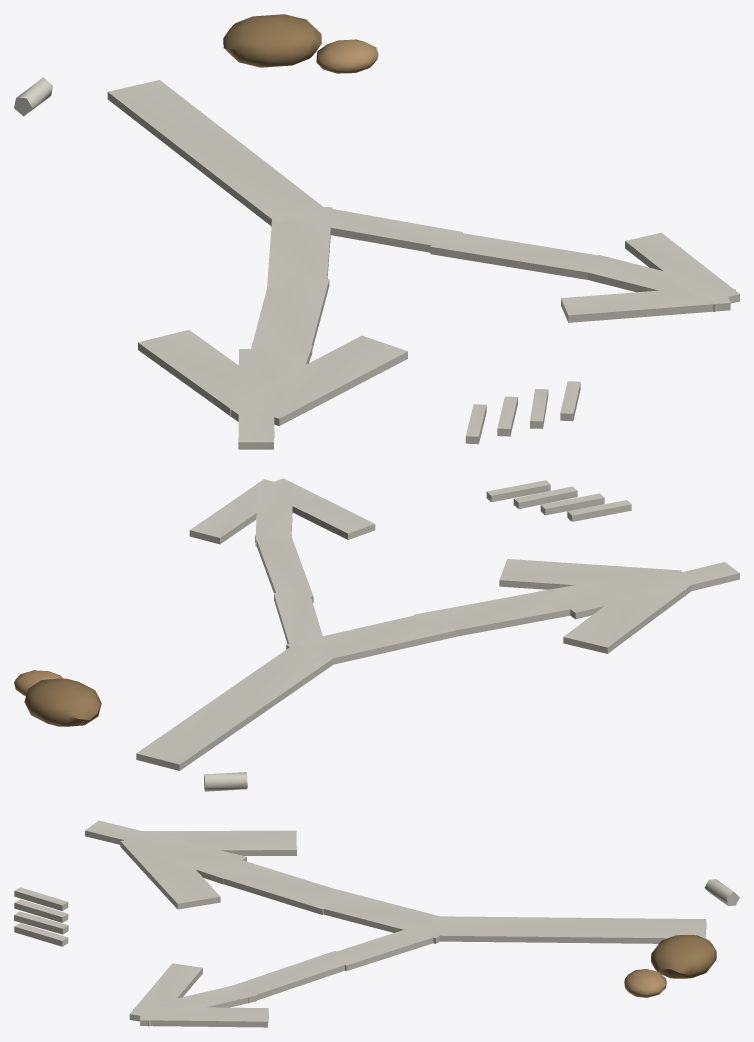
The model's file is chalk_turn_b_lod1.glb.
3 renders of one model, top to bottom at view 1: azimuth 30°, elevation 25°; view 2: azimuth 150°, elevation 25°; view 3: azimuth 270°, elevation 25°, orthographic. The views are drawn at different scales.
Parts seen in each view (by area): view 1: Surface.001; view 2: Surface.001; view 3: Surface.001.
Boxes of the visible parts, bbox=[...] form: Surface.001: bbox=[14, 14, 739, 449]; Surface.001: bbox=[14, 478, 739, 791]; Surface.001: bbox=[14, 820, 739, 1027].
Size of the model in its own units: 3.73 by 0.3596 by 5.68.
